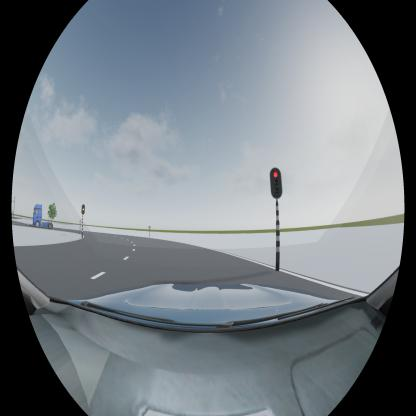Red Light: (271, 167, 282, 199)
Speed Limit 80: (148, 226, 150, 229)
